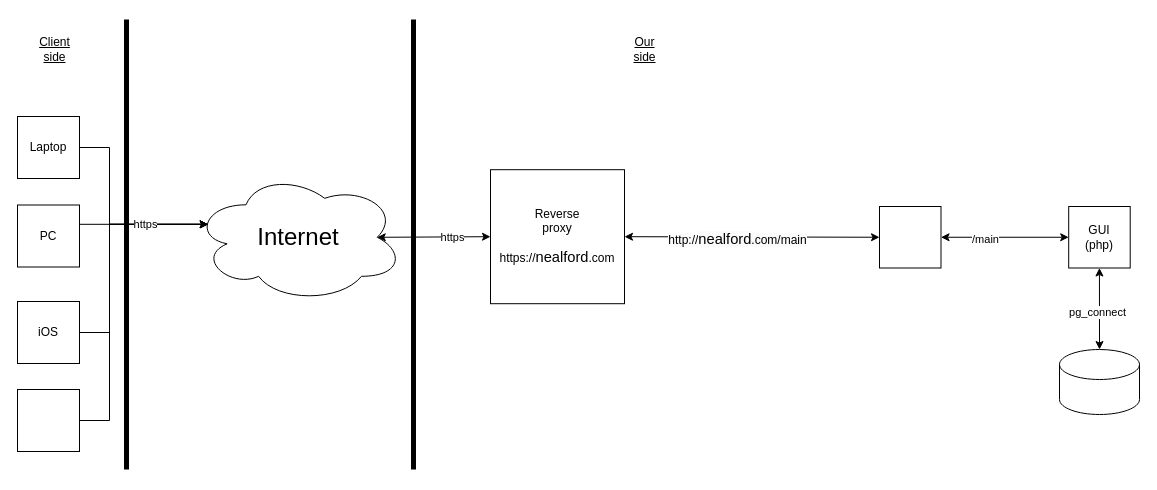
This 1157x490 diagram has some shape labels left out. Each missing label, with the centre of its shape:
"Android" goes at point 48,420.
"Nginx" goes at point 909,237.
"PostgreSQL" goes at point 1099,381.
